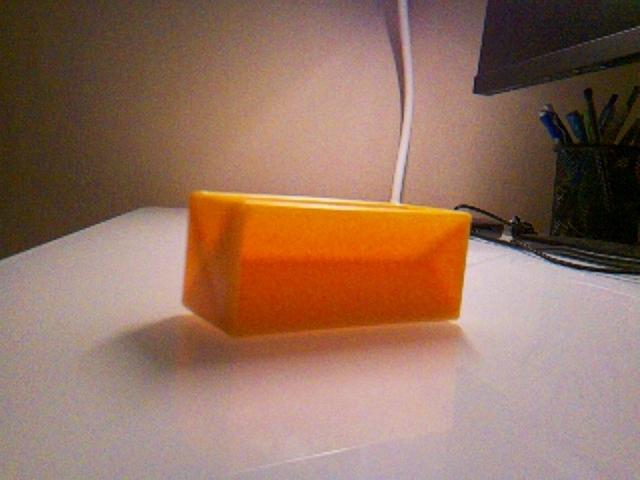yellow: (181, 188, 473, 338)
